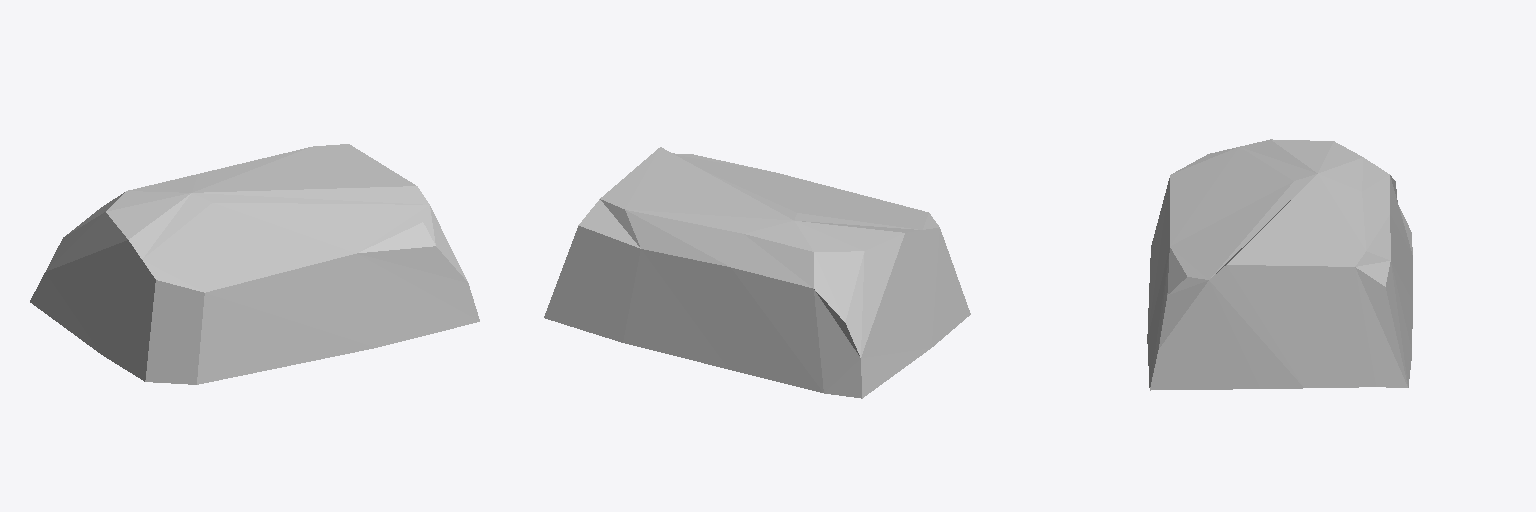
File: Pebble_Square_2.obj
3 views of the same model, side by side, from view 1: azimuth 30°, elevation 25°; view 2: azimuth 150°, elevation 25°; view 3: azimuth 270°, elevation 25° (orthographic).
Visible parts, largest first — view 1: Pebble_Square_2; view 2: Pebble_Square_2; view 3: Pebble_Square_2.
Boxes of the visible parts, box(x1,y1,x2,y2) form: Pebble_Square_2: box(30, 144, 479, 384); Pebble_Square_2: box(544, 147, 970, 398); Pebble_Square_2: box(1147, 139, 1412, 390).
Bounding box in the file's own units: 0.3911 × 0.1404 × 0.2803.